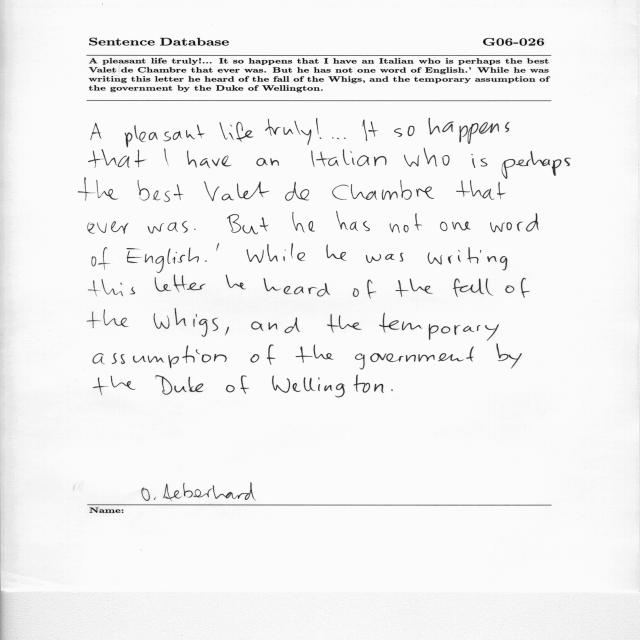word: (379, 313, 499, 341), (93, 346, 227, 369), (355, 347, 474, 370), (272, 375, 384, 397), (429, 118, 510, 144), (332, 180, 434, 200), (502, 151, 571, 179), (154, 308, 218, 337), (125, 125, 205, 148), (428, 247, 508, 270), (85, 149, 146, 179), (127, 248, 199, 273), (311, 149, 387, 167), (204, 181, 269, 201), (264, 278, 331, 297), (265, 119, 311, 145), (246, 243, 305, 263), (138, 180, 184, 202), (456, 180, 506, 200), (156, 375, 204, 395), (490, 213, 539, 232), (78, 179, 118, 201), (404, 148, 450, 167), (155, 275, 206, 292), (227, 214, 268, 234), (93, 376, 136, 395), (251, 317, 300, 333), (89, 279, 135, 296), (453, 278, 494, 297), (87, 309, 128, 328), (187, 151, 232, 168), (395, 279, 433, 297), (296, 345, 334, 363), (220, 122, 254, 142), (336, 212, 370, 232), (327, 314, 362, 333), (496, 344, 522, 369), (390, 213, 422, 233), (250, 344, 276, 365), (88, 221, 129, 234), (148, 221, 188, 234), (505, 278, 530, 298), (292, 212, 315, 233), (285, 182, 310, 201), (353, 280, 377, 299), (226, 375, 249, 394), (92, 247, 110, 270), (366, 253, 403, 263), (326, 244, 347, 261), (362, 120, 378, 141), (440, 221, 471, 231), (226, 275, 246, 289), (471, 154, 488, 168), (394, 126, 415, 137), (91, 123, 102, 140), (256, 158, 279, 166), (316, 118, 321, 139), (165, 149, 169, 166), (225, 327, 229, 335), (332, 137, 346, 139), (217, 243, 220, 251), (205, 260, 207, 262), (391, 390, 393, 392), (194, 229, 196, 230)
